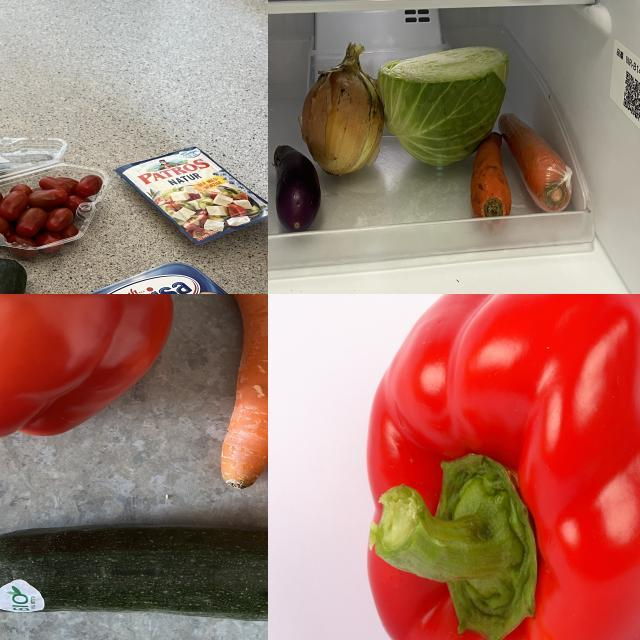bell_pepper: (348, 295, 640, 640)
cabbage: (377, 45, 507, 167)
carrot: (206, 295, 269, 490), (500, 111, 580, 213), (472, 131, 516, 222)
eggplant: (273, 143, 319, 238)
onion: (302, 48, 388, 178)
tomato: (1, 124, 121, 259)
zucchini: (1, 511, 269, 640)
